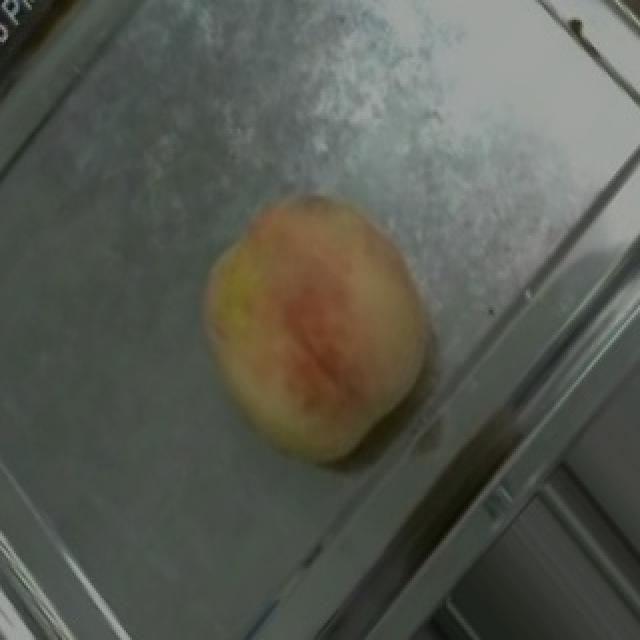Fruit: (154, 152, 478, 508)
